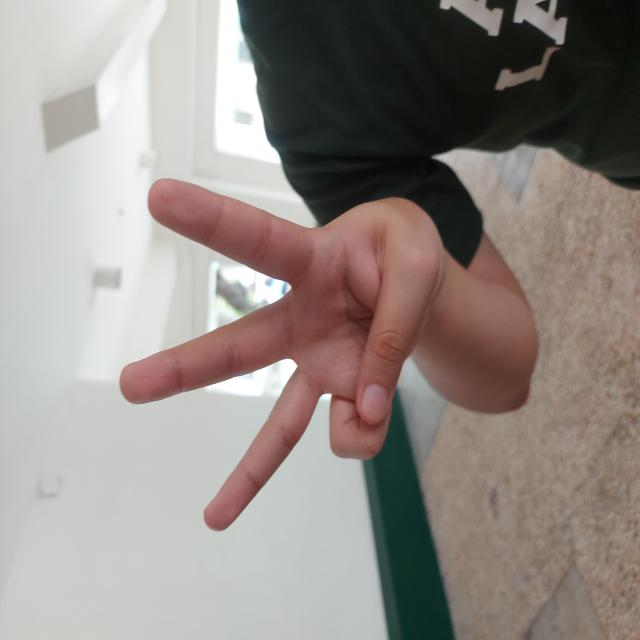W: (107, 118, 467, 443)
